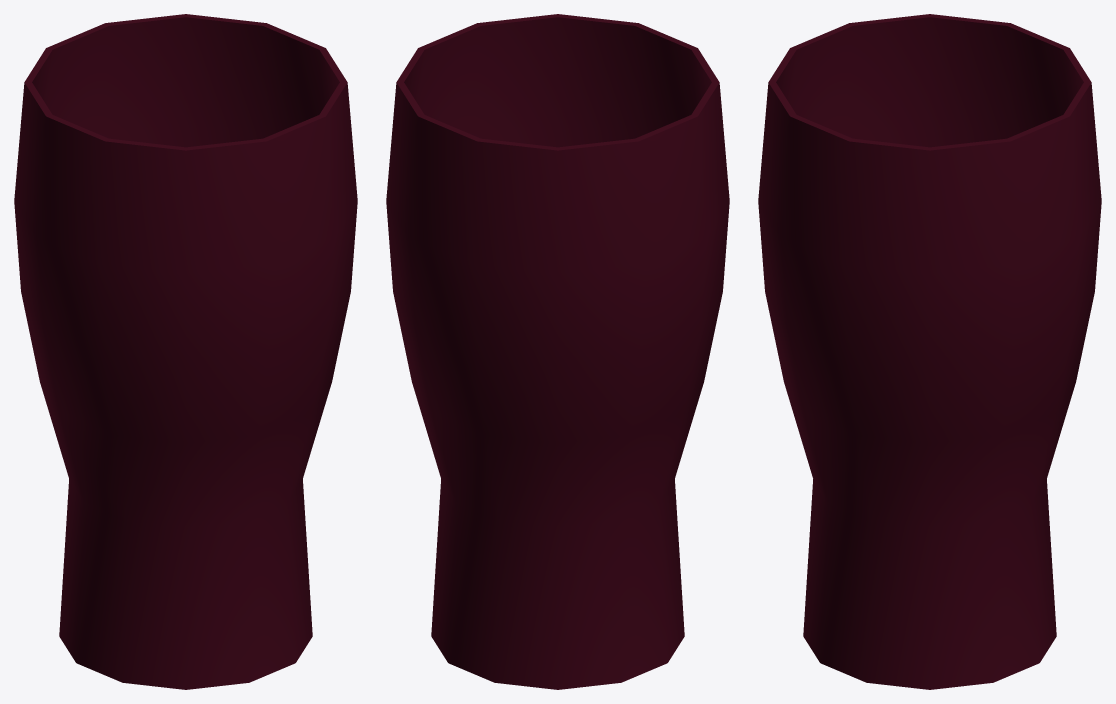
Rendered from Prop_Glass_Beer_v01.fbx.
3 views of the same model, side by side, from view 1: azimuth 30°, elevation 25°; view 2: azimuth 150°, elevation 25°; view 3: azimuth 270°, elevation 25° (orthographic).
Visible parts, largest first — view 1: Rest_Bar_Set04_BeerGlass_01; view 2: Rest_Bar_Set04_BeerGlass_01; view 3: Rest_Bar_Set04_BeerGlass_01.
Boxes of the visible parts, bbox=[...] form: Rest_Bar_Set04_BeerGlass_01: bbox=[14, 14, 357, 689]; Rest_Bar_Set04_BeerGlass_01: bbox=[386, 14, 729, 689]; Rest_Bar_Set04_BeerGlass_01: bbox=[758, 14, 1101, 689].
Size of the model in its own units: 2.33 by 4.15 by 2.33.
